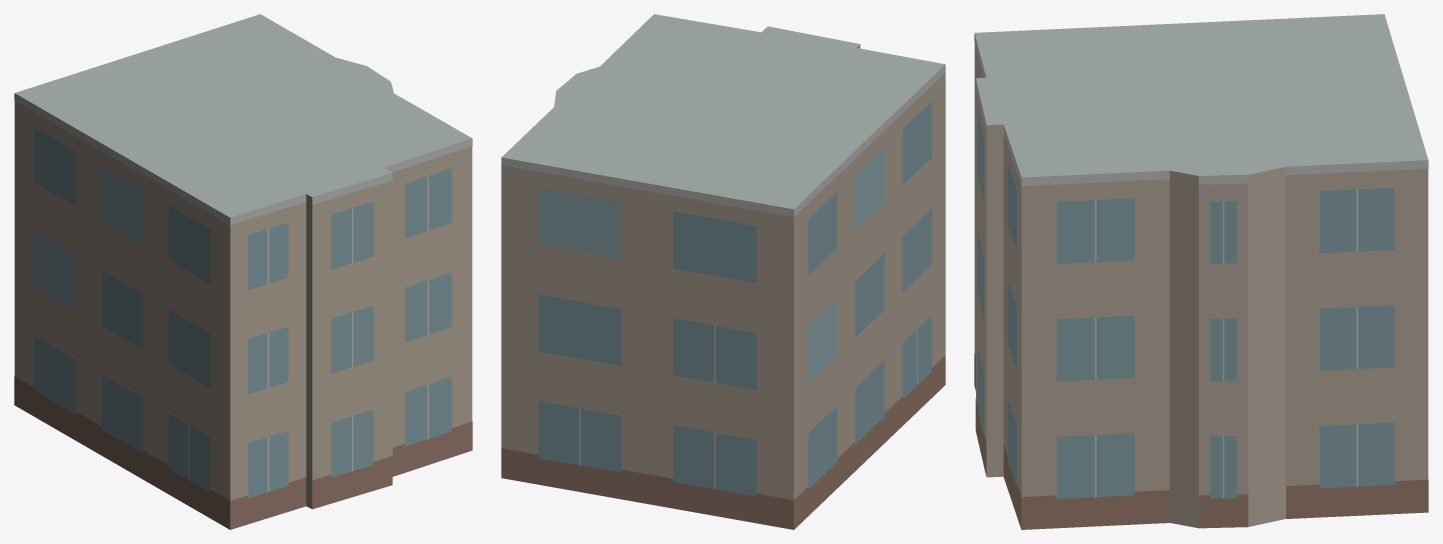
File: survey-upis-32703907.glb
The picture shows the model from 3 angles, left to right: view 1: azimuth 30°, elevation 25°; view 2: azimuth 150°, elevation 25°; view 3: azimuth 270°, elevation 25°; orthographic projection. The views are drawn at different scales.
Visible parts, largest first — view 1: survey-upis-32703907.tmp; view 2: survey-upis-32703907.tmp; view 3: survey-upis-32703907.tmp.
Boxes of the visible parts, bbox=[...] form: survey-upis-32703907.tmp: bbox=[14, 14, 472, 529]; survey-upis-32703907.tmp: bbox=[501, 14, 945, 529]; survey-upis-32703907.tmp: bbox=[974, 14, 1428, 529].
Bounding box in the file's own units: 9.97 × 10 × 11.69.
